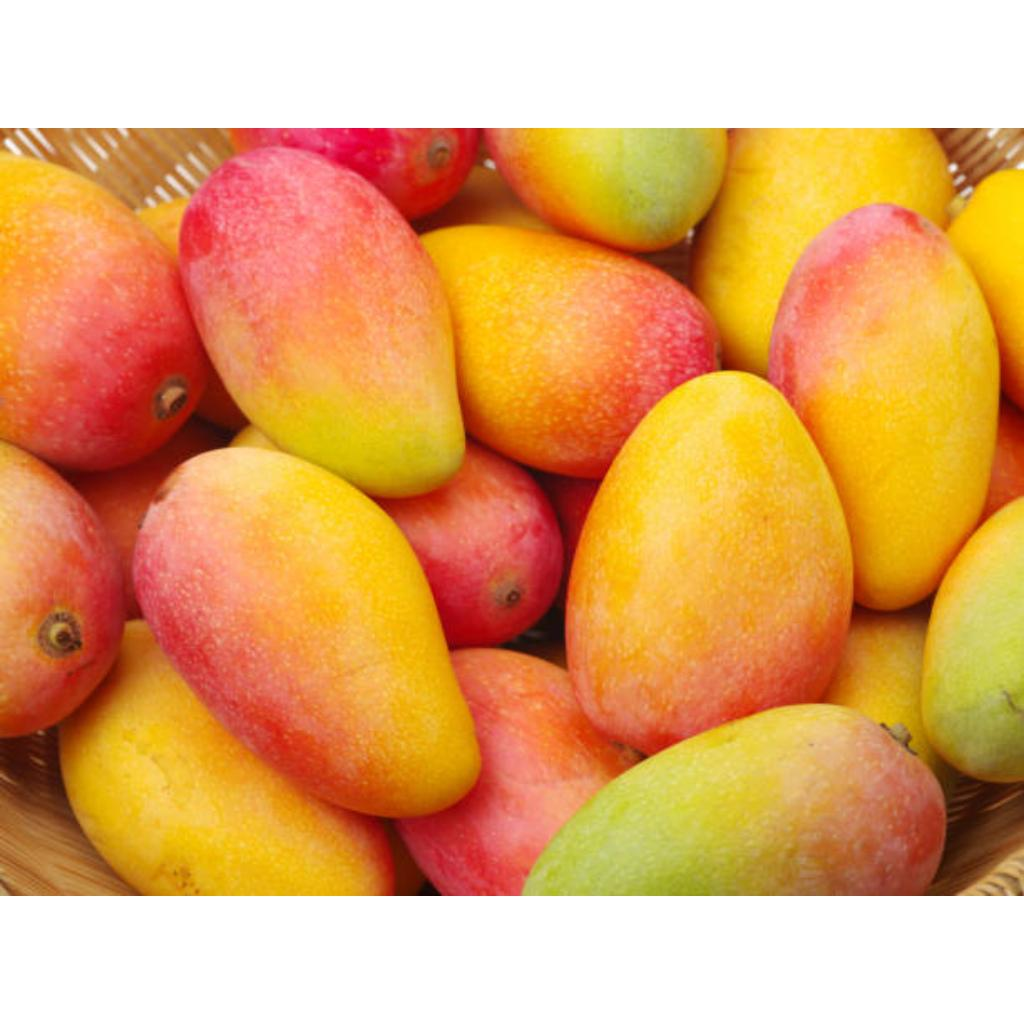mango: (134, 448, 480, 817), (566, 372, 852, 753), (178, 146, 464, 496), (768, 204, 1000, 610), (60, 622, 392, 894), (524, 704, 944, 894), (422, 226, 718, 477), (0, 152, 210, 469), (690, 128, 954, 375), (396, 648, 634, 894), (378, 442, 564, 647), (0, 440, 124, 735), (484, 128, 726, 251), (922, 496, 1023, 781)
